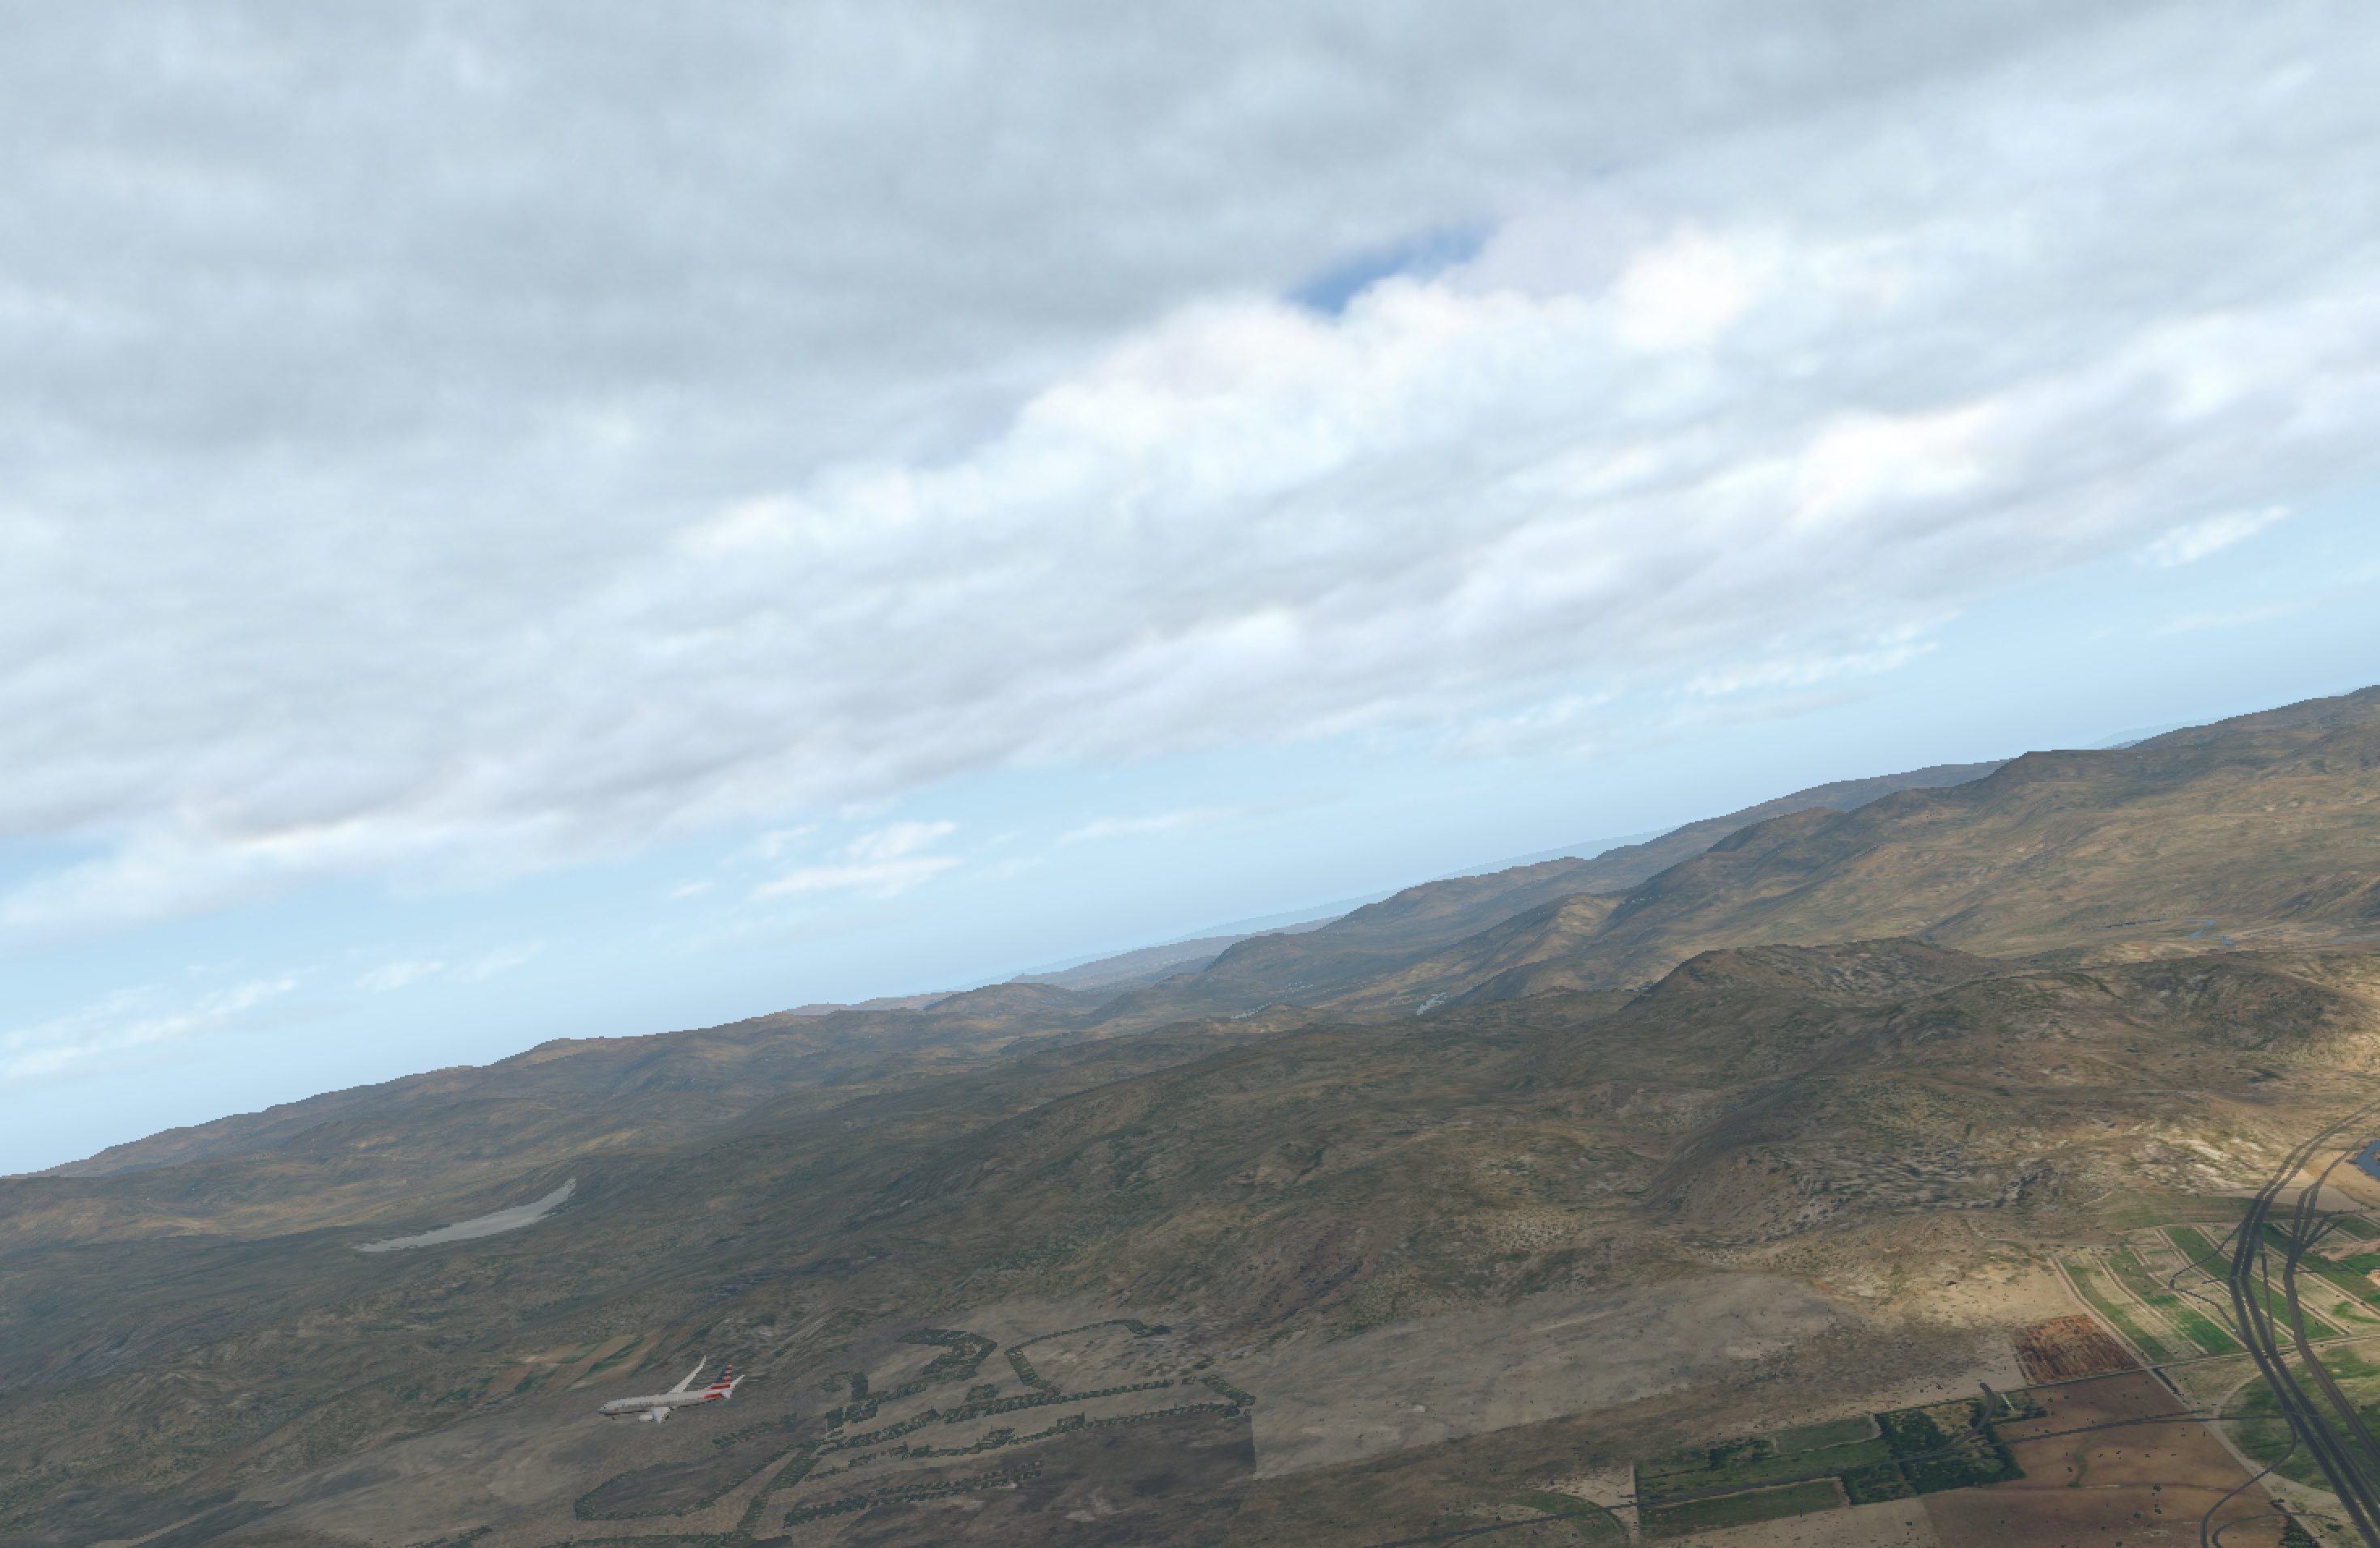aircraft: (595, 1378, 730, 1430)
